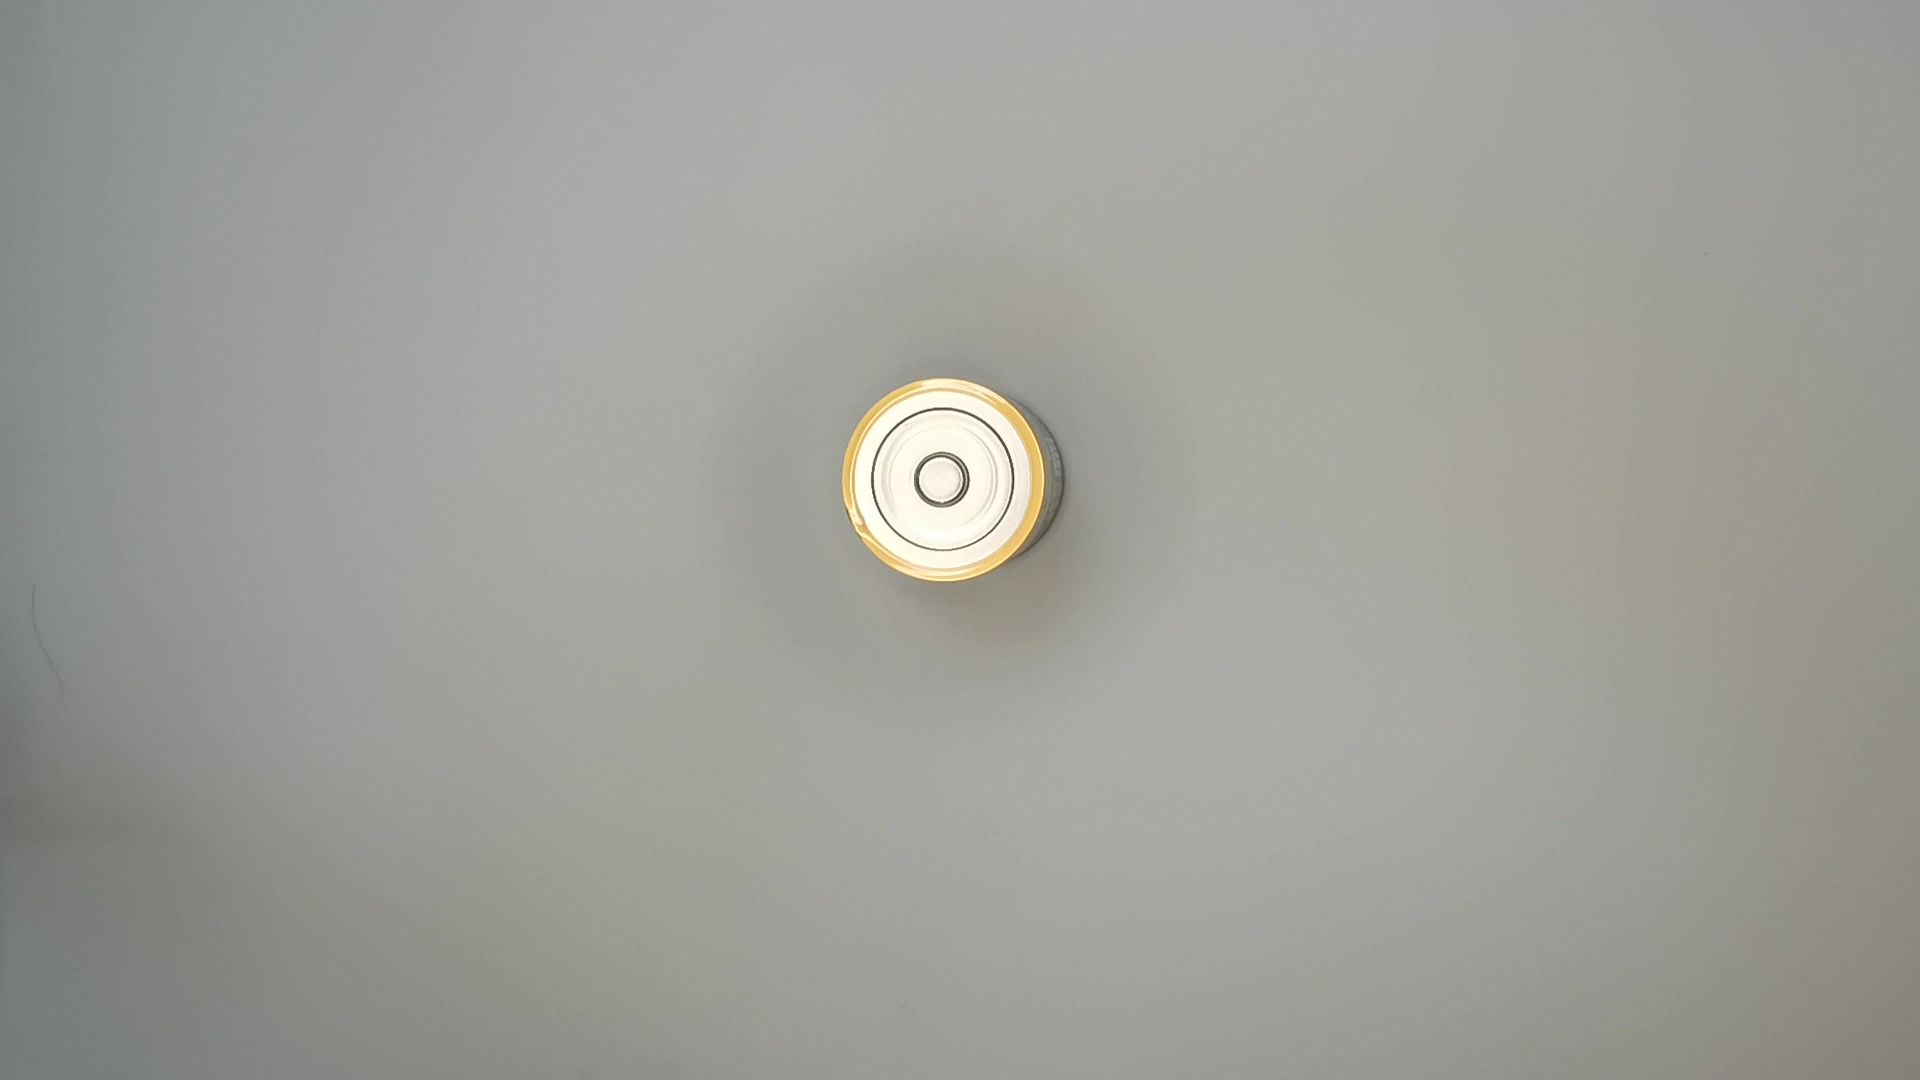battery: (837, 375, 1073, 591)
